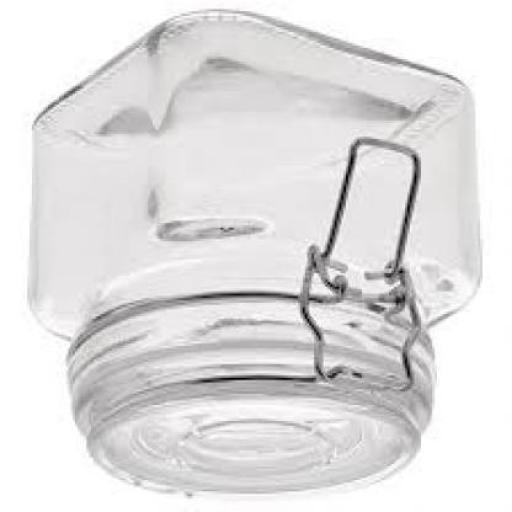glass: (36, 16, 484, 501)
